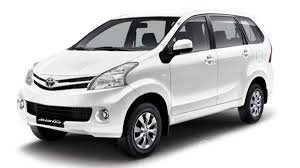mobil: (17, 11, 272, 147)
